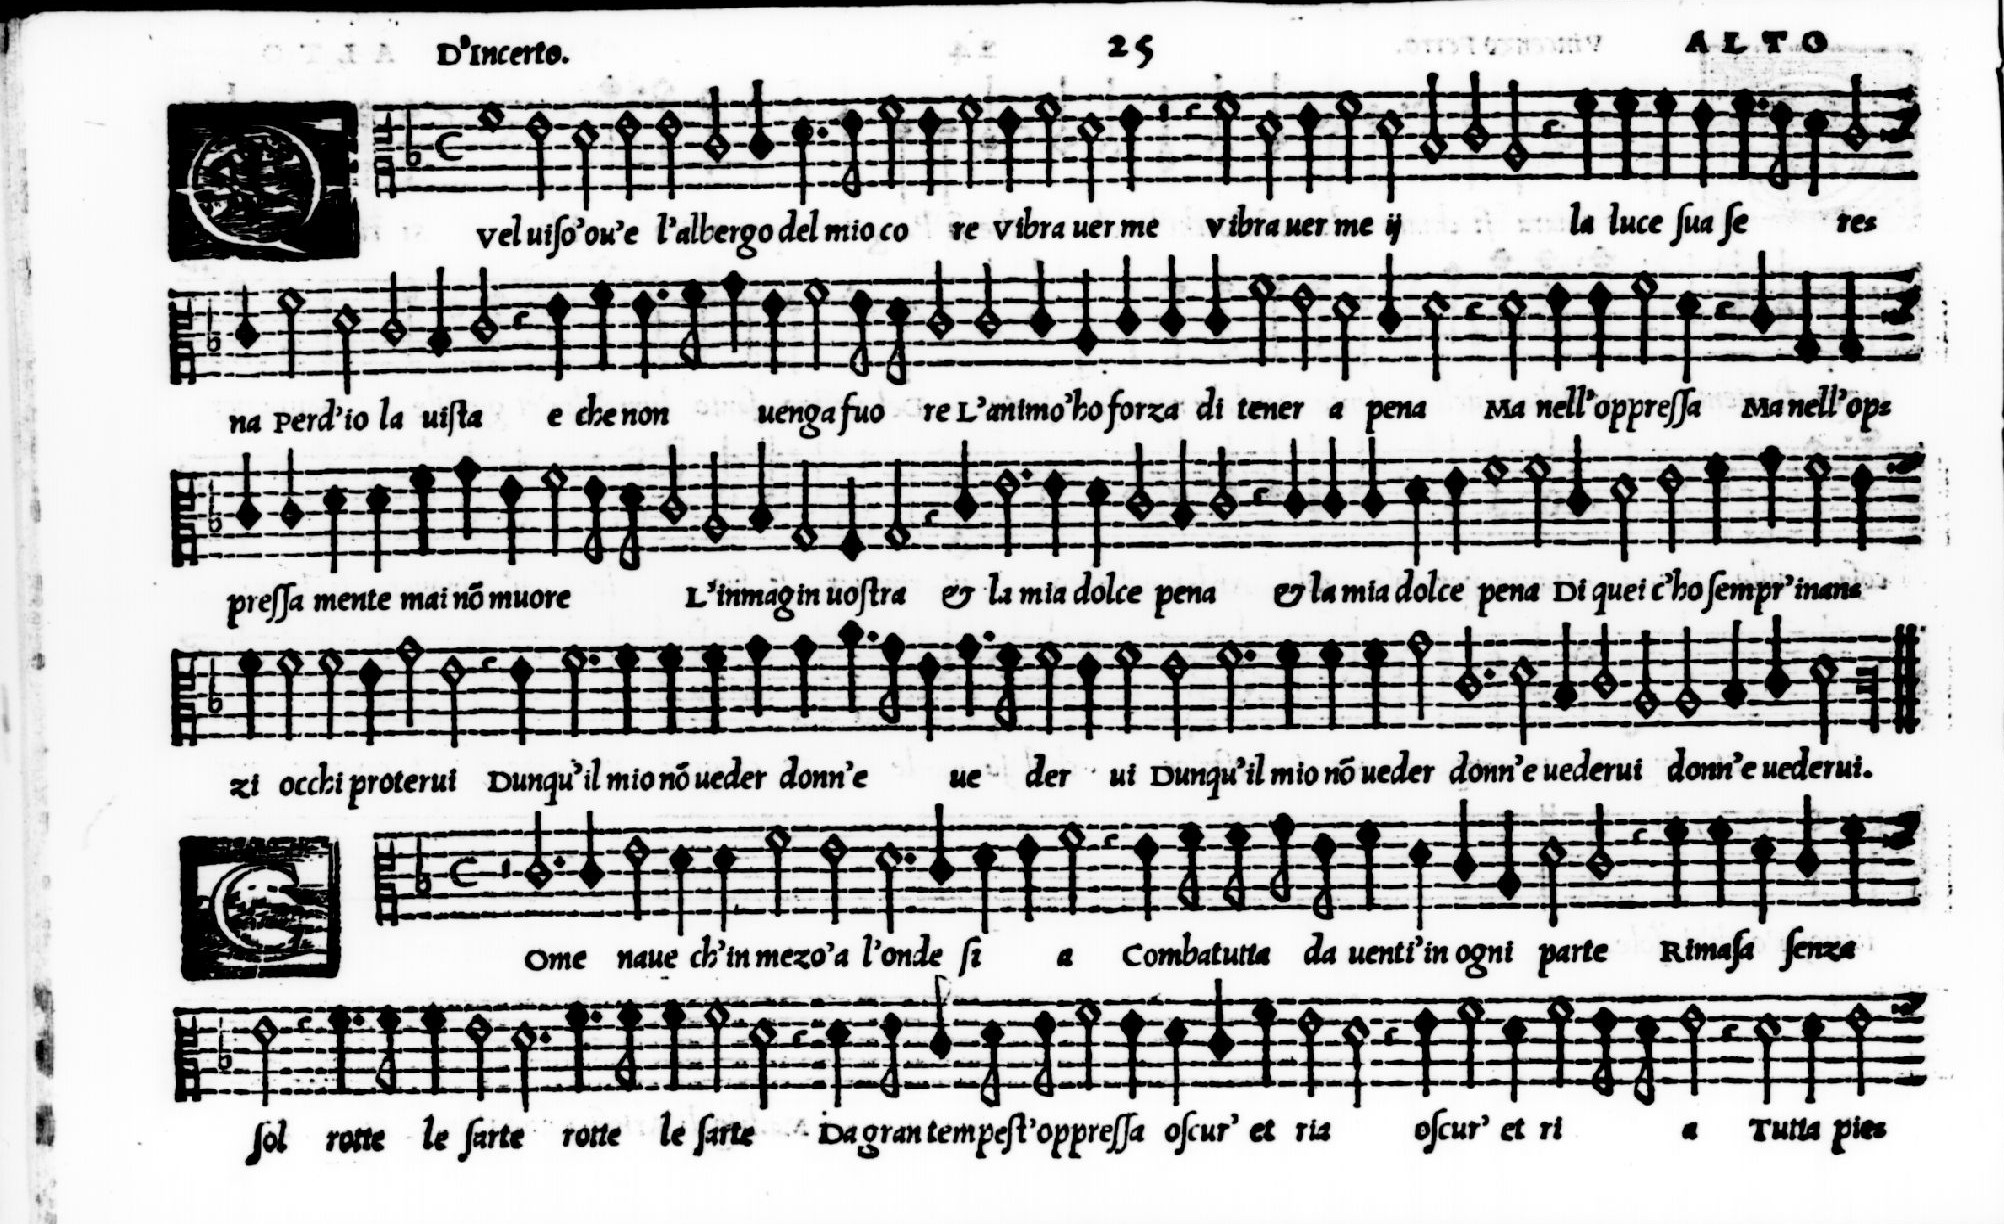c clef_7: (157, 269, 200, 394)
custos_7: (1872, 283, 1935, 346)
flat_8: (193, 291, 226, 366)
fusa rest: (502, 262, 534, 399), (1706, 252, 1736, 384), (1456, 263, 1486, 394)
fusa_4: (678, 273, 709, 371)
fusa_5: (842, 263, 876, 394)
fusa_6: (879, 276, 912, 399)
minim_4: (1625, 258, 1660, 375), (271, 276, 309, 382), (797, 266, 832, 381), (1245, 261, 1280, 368)
minim_5: (1285, 273, 1320, 379)
minim_6: (1492, 276, 1530, 398), (1416, 275, 1453, 394), (1324, 279, 1358, 394), (326, 283, 365, 374)
minim_7: (464, 246, 502, 366), (968, 243, 1006, 351), (918, 252, 955, 356), (374, 258, 409, 362)
point: (644, 273, 676, 318)
semiminim_10: (1785, 258, 1827, 374), (1828, 263, 1869, 379)
semiminim_3: (711, 268, 751, 378)
semiminim_4: (578, 265, 621, 381)
semiminim_5: (1580, 263, 1619, 384), (1537, 266, 1575, 381), (750, 273, 789, 379), (535, 276, 573, 384), (621, 275, 657, 384)
semiminim_6: (1669, 273, 1705, 394)
semiminim_7: (1019, 263, 1064, 372), (1741, 243, 1779, 354), (1194, 248, 1234, 352), (1151, 245, 1190, 352), (1367, 248, 1406, 352), (1106, 246, 1144, 352), (226, 275, 263, 371)
semiminim_8: (419, 253, 457, 369)
semiminim_9: (1065, 255, 1104, 368)
